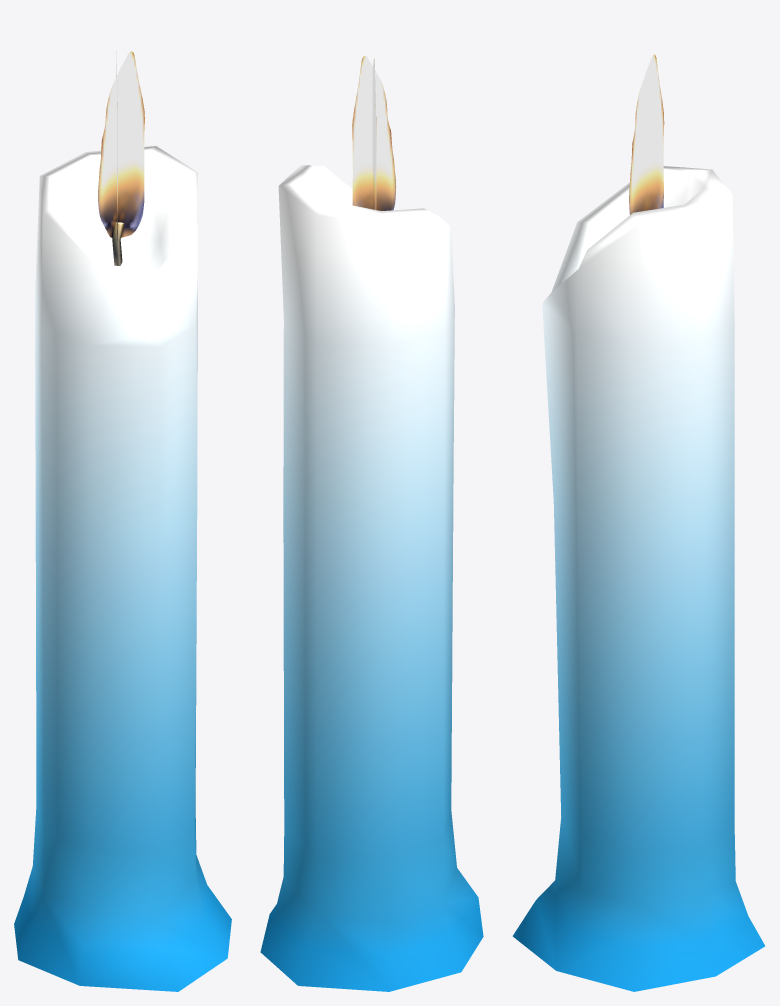
Rendered from CandleShapeA.014.glb.
The picture shows the model from 3 angles, left to right: view 1: azimuth 30°, elevation 25°; view 2: azimuth 150°, elevation 25°; view 3: azimuth 270°, elevation 25°; orthographic projection.
Visible parts, largest first — view 1: CandleShapeA.014; view 2: CandleShapeA.014; view 3: CandleShapeA.014.
Boxes of the visible parts, x1,y1,x2,y2 form: CandleShapeA.014: (14, 51, 231, 991); CandleShapeA.014: (260, 56, 483, 991); CandleShapeA.014: (512, 54, 764, 991).
Size of the model in its own units: 0.0814 by 0.3472 by 0.0887.
2 materials, 2 textured.
